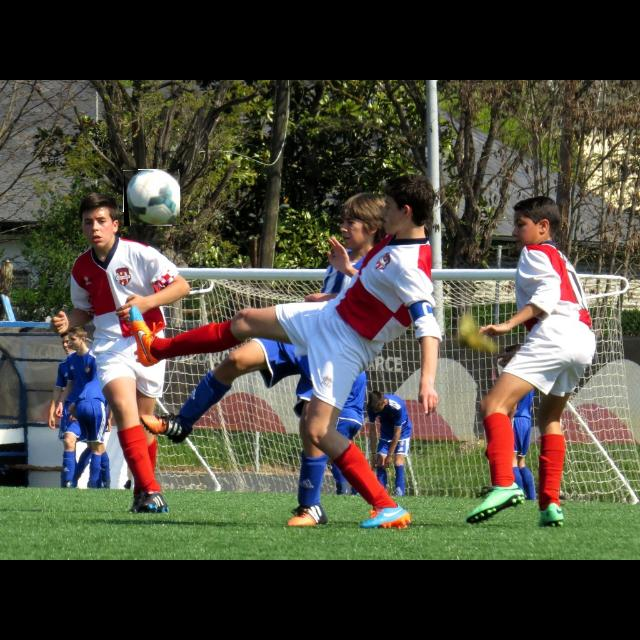Football: (124, 170, 180, 226)
